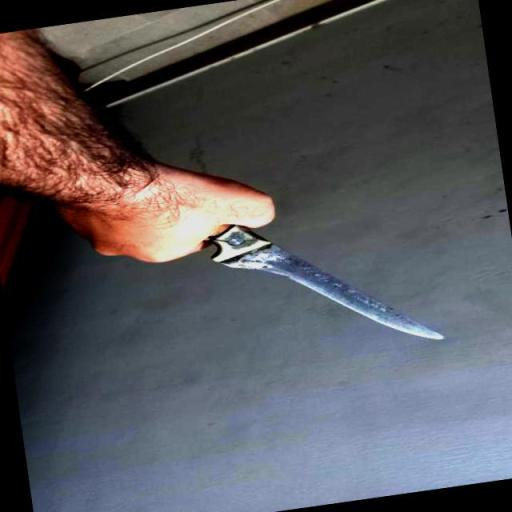knife: (199, 197, 443, 371)
